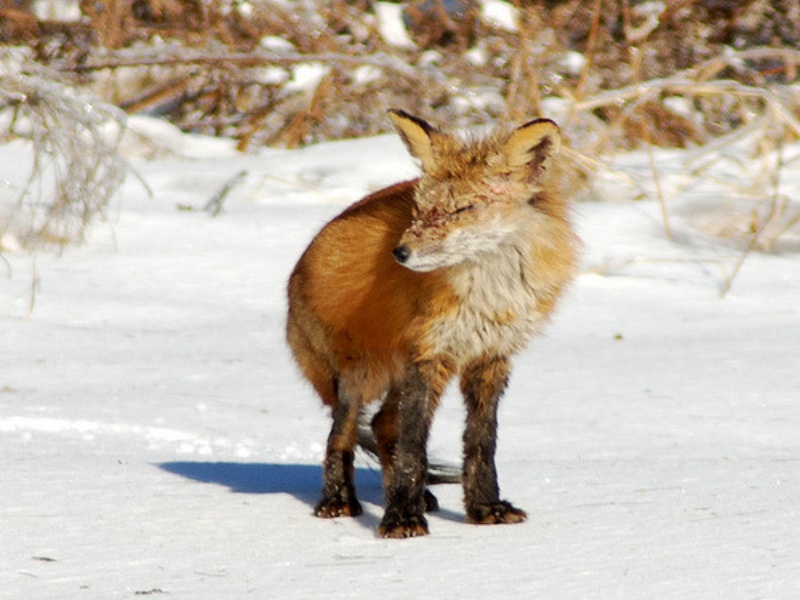fox: (282, 108, 587, 541)
